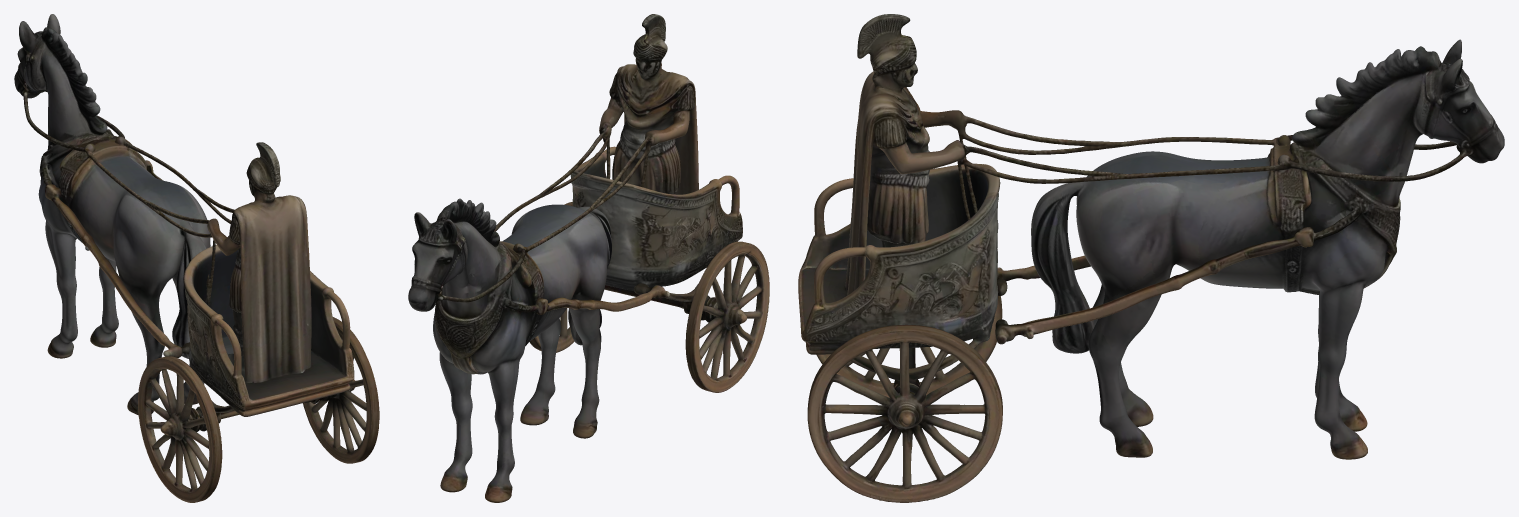
3 renders of one model, left to right at view 1: azimuth 30°, elevation 25°; view 2: azimuth 150°, elevation 25°; view 3: azimuth 270°, elevation 25°, orthographic. The views are drawn at different scales.
Parts seen in each view (by area): view 1: tripo_node_48107ada-93a9-4e35-bf46-150438e2e88d; view 2: tripo_node_48107ada-93a9-4e35-bf46-150438e2e88d; view 3: tripo_node_48107ada-93a9-4e35-bf46-150438e2e88d.
Boxes of the visible parts, x1,y1,x2,y2 form: tripo_node_48107ada-93a9-4e35-bf46-150438e2e88d: [14, 14, 379, 502]; tripo_node_48107ada-93a9-4e35-bf46-150438e2e88d: [408, 14, 769, 502]; tripo_node_48107ada-93a9-4e35-bf46-150438e2e88d: [798, 14, 1504, 502].
Size of the model in its own units: 0.4157 by 0.6808 by 1.
Materials: 1 (1 with a texture image).
